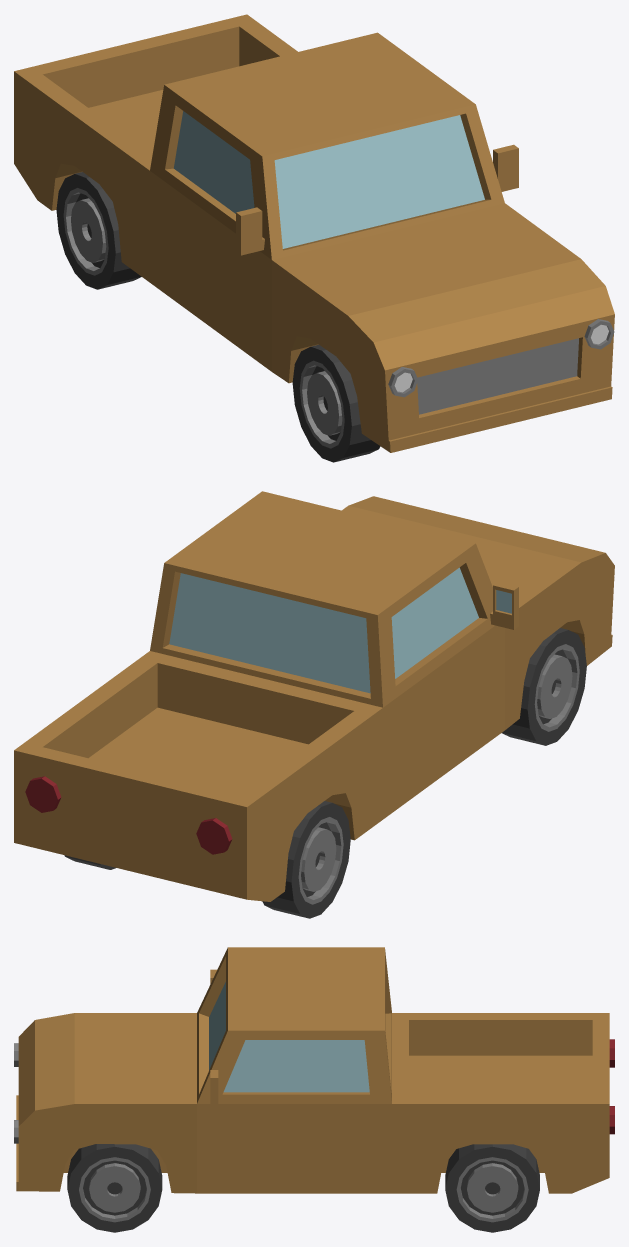
File: PickupTruck(Old).fbx
The picture shows the model from 3 angles, top to bottom: view 1: azimuth 30°, elevation 25°; view 2: azimuth 150°, elevation 25°; view 3: azimuth 270°, elevation 25°; orthographic projection. The views are drawn at different scales.
Parts seen in each view (by area): view 1: Main, FRightTire, RRightTire; view 2: Main, FRightTire, RRightTire; view 3: Main, FLeftTire, RLelftTire.
Boxes of the visible parts, x1,y1,x2,y2 form: Main: (14, 14, 614, 452); FRightTire: (292, 344, 380, 462); RRightTire: (56, 172, 141, 289); Main: (14, 491, 614, 901); FRightTire: (502, 628, 586, 745); RRightTire: (262, 801, 350, 918); Main: (14, 947, 614, 1193); FLeftTire: (67, 1144, 162, 1232); RLelftTire: (445, 1144, 539, 1232).
Bounding box in the file's own units: 143 × 122 × 335.
